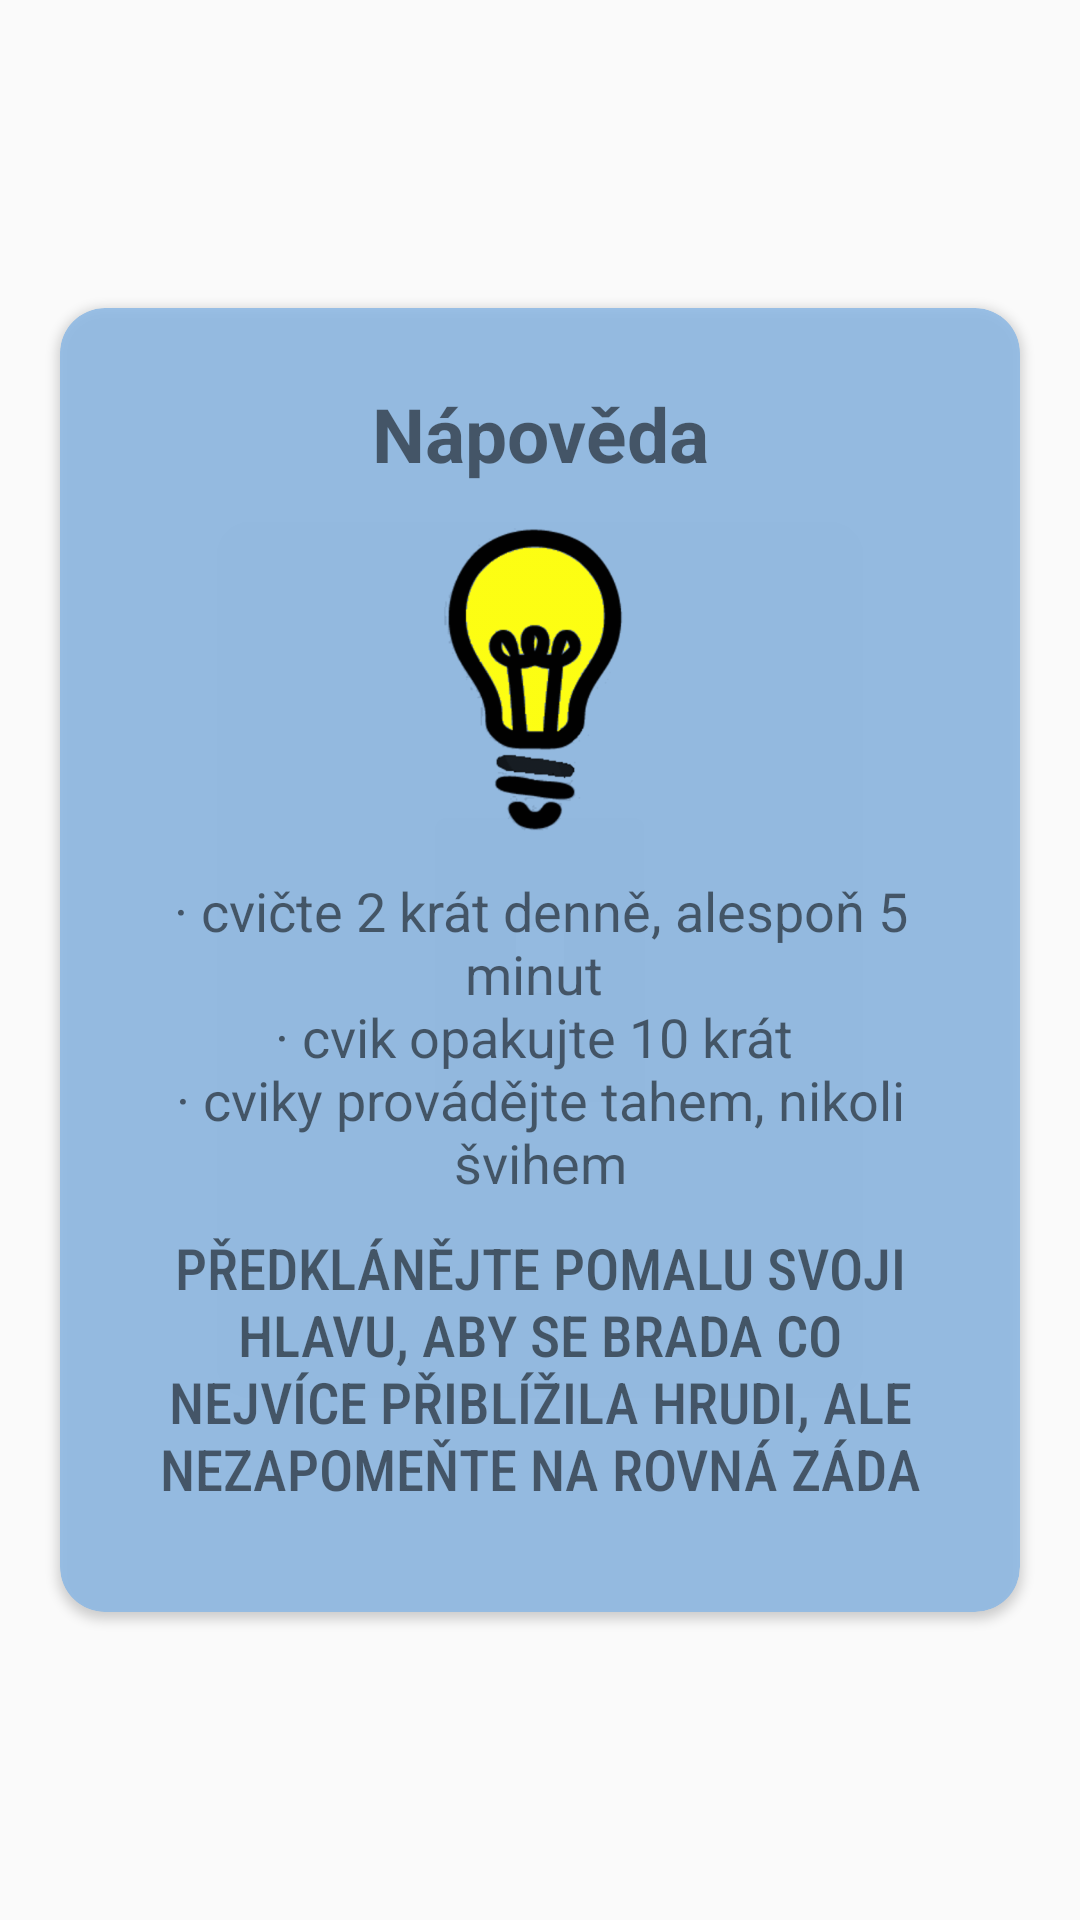

Where icons sit on this 1080px x 1920px app screen, as [left=x1, top=y1, right=x2, bottom=y2]:
zarovka on: [left=445, top=529, right=622, bottom=830]
